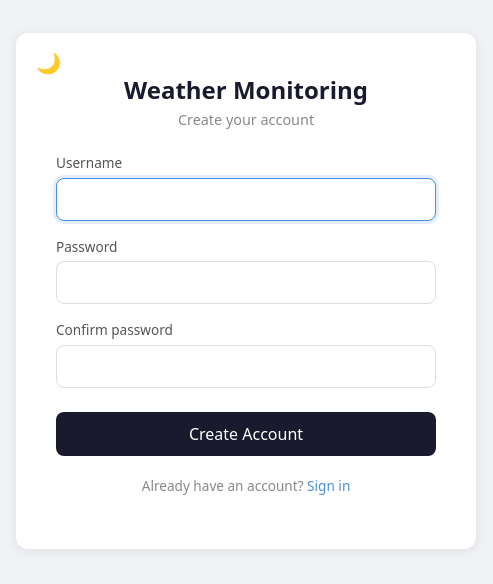
Scenario: RegisterPage › shows validation error when passwords do not match
In the field labelled "Username": (246, 199) 56,178 -> 436,221, type "ruben"
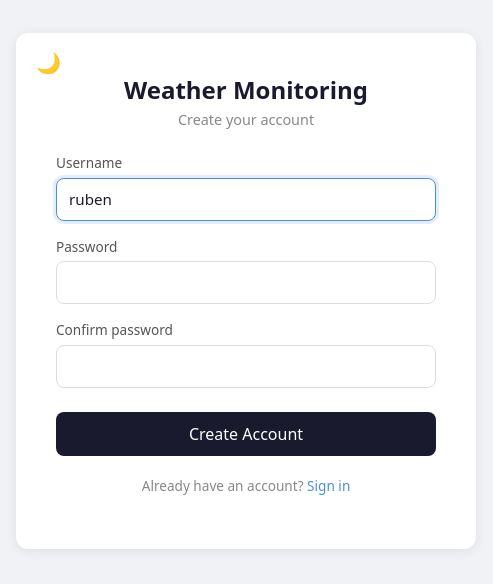
In the password field labelled "Password": (246, 283) 56,261 -> 436,304, type "1234"
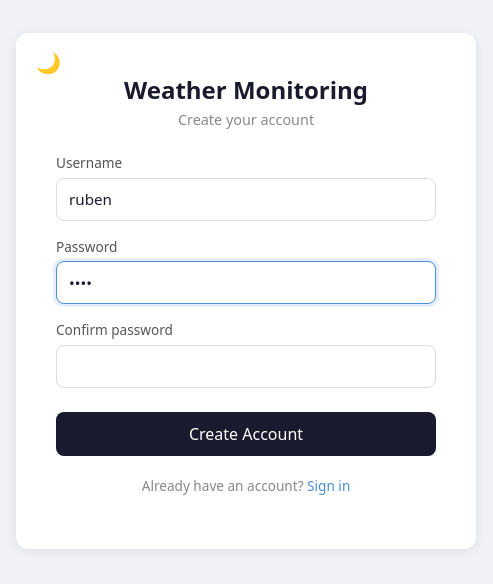
In the password field labelled "Confirm password": (246, 366) 56,345 -> 436,388, type "5678"
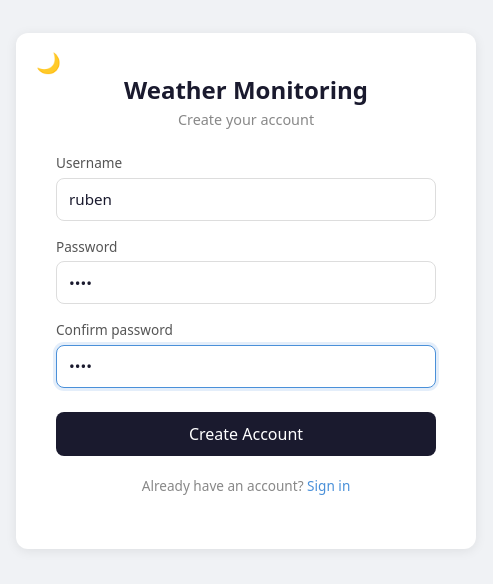
Click the button "Create Account": (246, 434) 56,412 -> 436,456
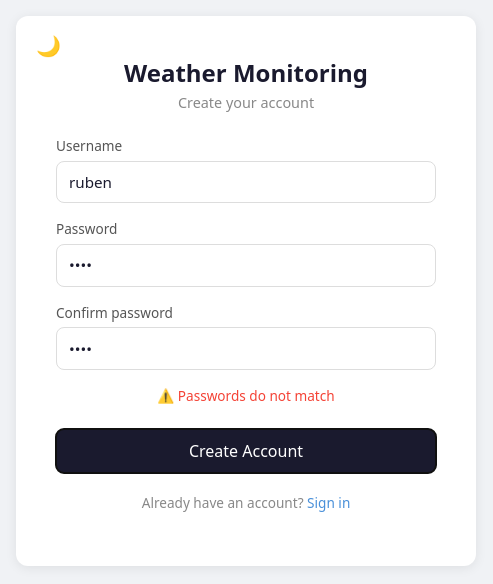
Check: the text "⚠️ Passwords do not match" is shown, box 157,386 -> 335,405
